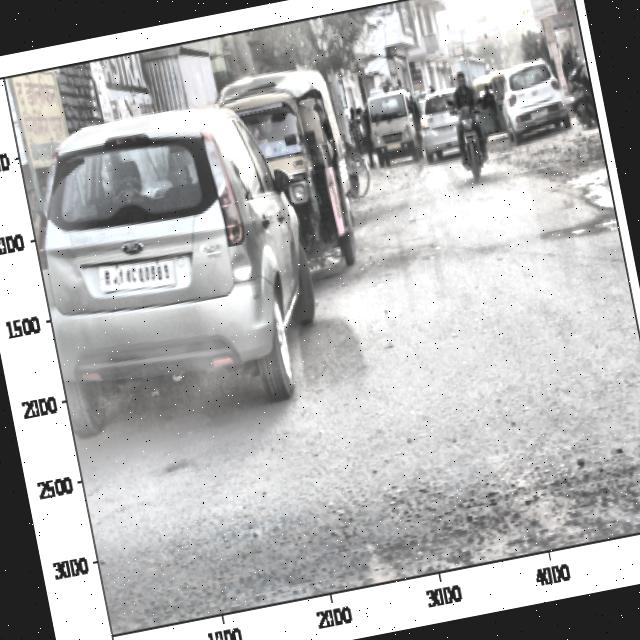license_plate: (98, 251, 174, 298)
